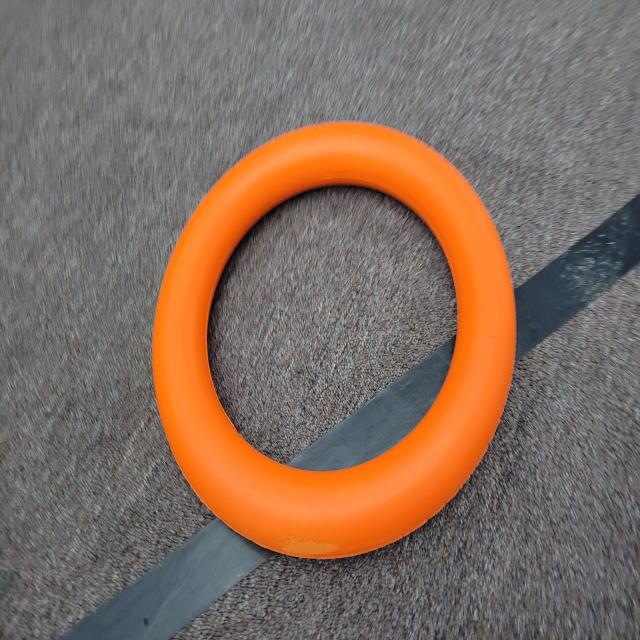note: (140, 117, 531, 569)
